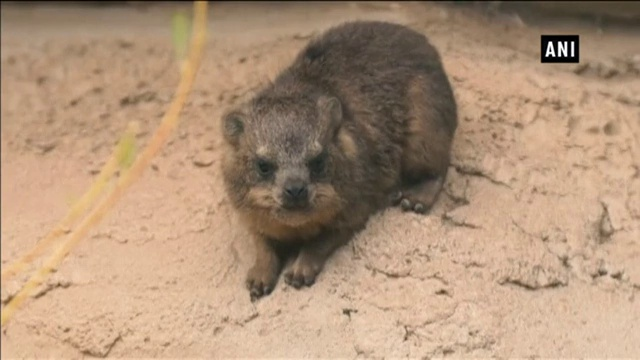Rock Hyrex: (220, 20, 457, 311)
